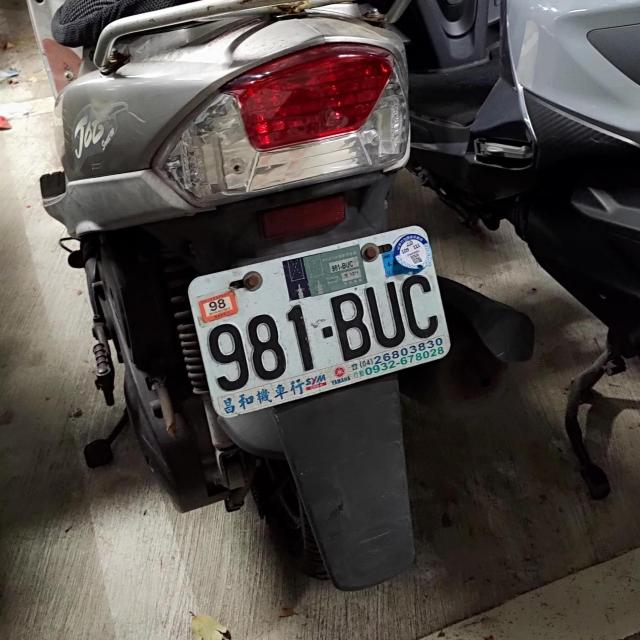W: (178, 224, 459, 421)
